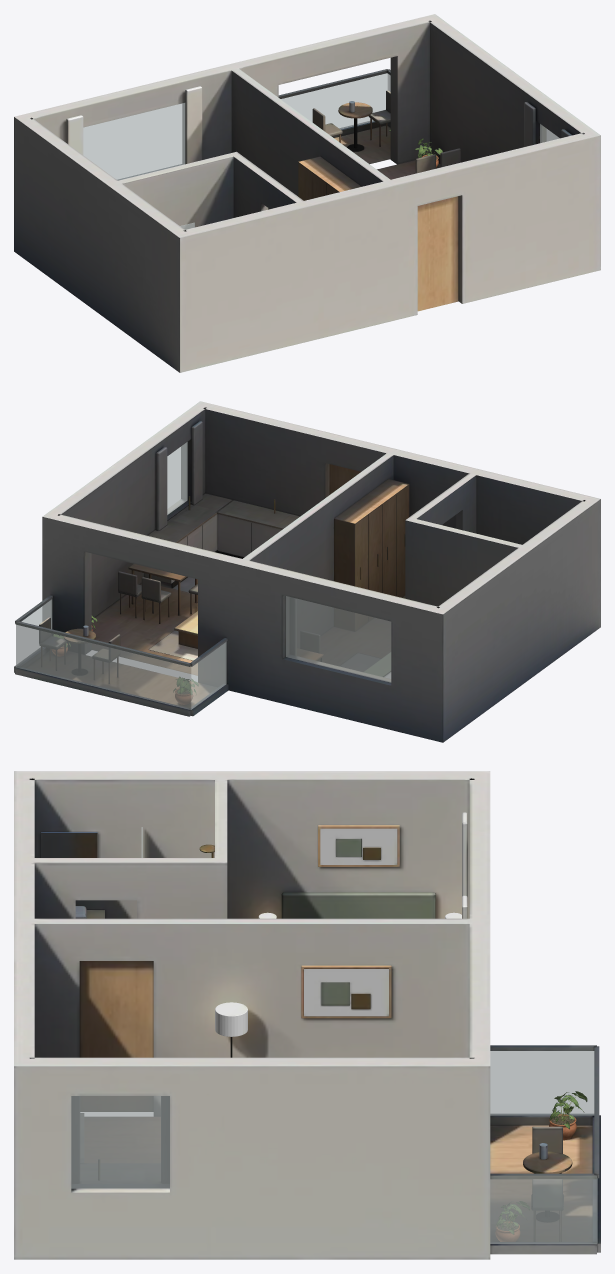
The model's file is suite-402.glb.
3 renders of one model, top to bottom at view 1: azimuth 30°, elevation 25°; view 2: azimuth 150°, elevation 25°; view 3: azimuth 270°, elevation 25°, orthographic. The views are drawn at different scales.
Visible parts, largest first — view 1: horneado, Cube021, Cube.025; view 2: horneado, Cube021, Cube.025, potted_plant_02_pot; view 3: horneado, Cube021, Cube.025, potted_plant_02_pot.
Boxes of the visible parts, x1,y1,x2,y2 form: horneado: (14,14,600,372); Cube021: (83,73,559,229); Cube.025: (281,73,559,138); horneado: (14,401,600,742); Cube021: (16,442,390,709); Cube.025: (16,443,390,709); potted_plant_02_pot: (52,615,198,704); horneado: (14,771,600,1259); Cube021: (71,827,597,1243); Cube.025: (71,828,597,1243); potted_plant_02_pot: (495,1091,587,1241).
Bounding box in the file's own units: 8.5 × 2.6 × 7.15.
Materials: 4 (3 with a texture image).
